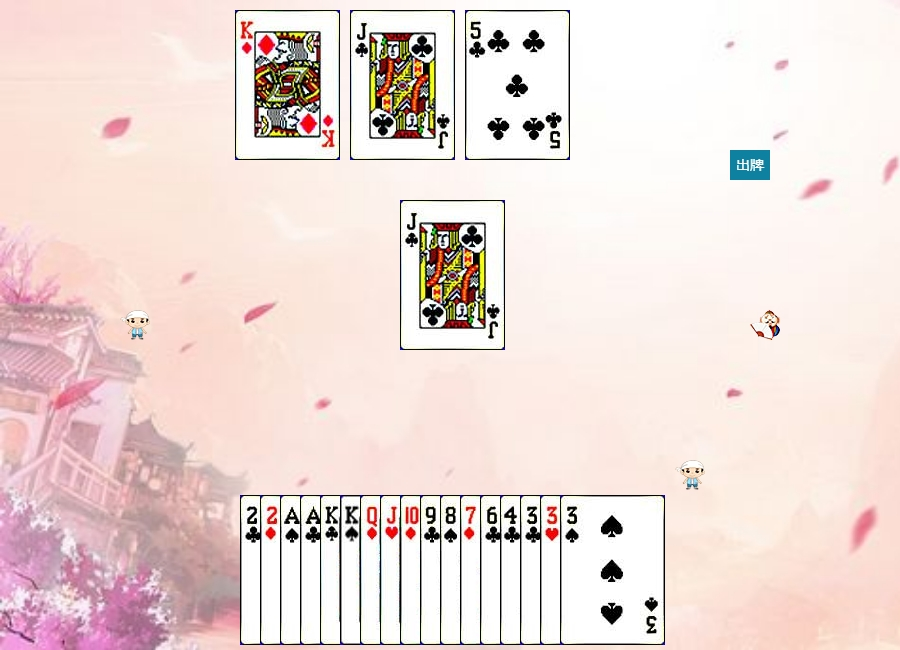10~1: (400, 495, 505, 645)
11~2: (350, 10, 455, 160), (400, 200, 505, 350)
11~3: (380, 495, 485, 645)
12~1: (360, 495, 465, 645)
13~1: (235, 10, 340, 160)
13~2: (320, 495, 425, 645)
13~4: (340, 495, 445, 645)
14~2: (300, 495, 405, 645)
14~4: (280, 495, 385, 645)
15~1: (260, 495, 365, 645)
15~2: (240, 495, 345, 645)
3~2: (520, 495, 625, 645)
3~3: (540, 495, 645, 645)
3~4: (560, 495, 665, 645)
4~2: (500, 495, 605, 645)
5~2: (465, 10, 570, 160)
6~2: (480, 495, 585, 645)
7~1: (460, 495, 565, 645)
8~4: (440, 495, 545, 645)
9~2: (420, 495, 525, 645)
